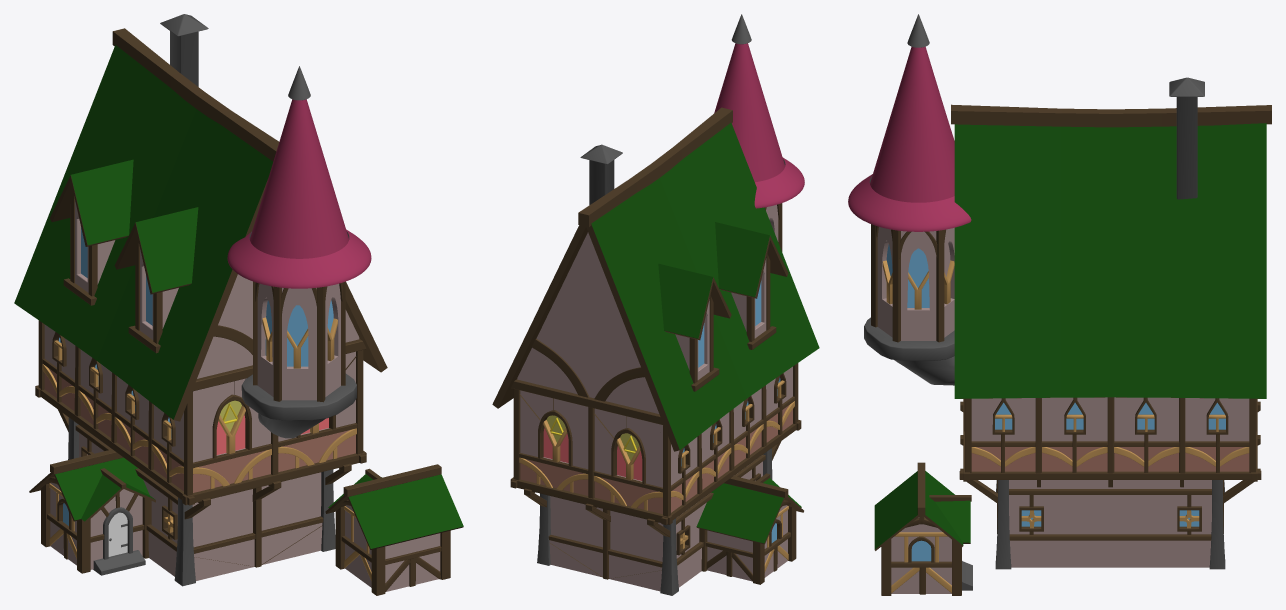
The model's file is House2.fbx.
The picture shows the model from 3 angles, left to right: view 1: azimuth 30°, elevation 25°; view 2: azimuth 150°, elevation 25°; view 3: azimuth 270°, elevation 25°; orthographic projection. The views are drawn at different scales.
Visible parts, largest first — view 1: Cube.082, Cube.056, Circle.009, Circle.005, Cube.090, Cube.115, Cube.062, Cube.084, Cube.094, Cube.105, Cube.064, Cube.083 (+19 smaller); view 2: Cube.082, Cube.056, Cube.090, Circle.009, Cube.062, Cube.105, Cube.064, Cube.084, Cube.058, Cube.089, Cube.094, Cube.091 (+15 smaller); view 3: Cube.082, Cube.056, Circle.009, Circle.005, Cube.084, Cube.115, Cube.062, Cube.093, Cube.064, Cube.083, Cube.080, Cube.058 (+10 smaller).
Part boxes in pixels (x1,y1,x2,y2): Cube.082: [14, 45, 387, 421]; Cube.056: [44, 274, 359, 580]; Circle.009: [227, 66, 371, 288]; Circle.005: [241, 283, 356, 438]; Cube.090: [50, 159, 198, 294]; Cube.115: [325, 474, 463, 549]; Cube.062: [35, 320, 366, 505]; Cube.084: [112, 28, 279, 161]; Cube.094: [50, 482, 142, 569]; Cube.105: [29, 457, 155, 522]; Cube.064: [42, 339, 366, 504]; Cube.083: [253, 281, 345, 402]; Cube.082: [492, 123, 819, 451]; Cube.056: [517, 232, 792, 591]; Cube.090: [658, 222, 788, 340]; Circle.009: [714, 14, 804, 208]; Cube.062: [510, 363, 801, 524]; Cube.105: [696, 478, 803, 544]; Cube.064: [511, 379, 794, 524]; Cube.084: [578, 107, 732, 227]; Cube.058: [537, 448, 772, 595]; Cube.089: [675, 258, 766, 379]; Cube.094: [707, 505, 787, 581]; Cube.091: [689, 254, 770, 383]; Cube.082: [954, 123, 1266, 398]; Cube.056: [971, 397, 1249, 567]; Circle.009: [848, 14, 971, 231]; Circle.005: [864, 227, 954, 385]; Cube.084: [951, 104, 1271, 127]; Cube.115: [874, 471, 970, 550]; Cube.062: [959, 398, 1261, 481]; Cube.093: [1169, 77, 1204, 199]; Cube.064: [971, 441, 1249, 494]; Cube.083: [871, 224, 944, 342]; Cube.080: [891, 517, 951, 593]; Cube.058: [995, 480, 1225, 569].
Bounding box in the file's own units: 6013 × 10475 × 7739.
